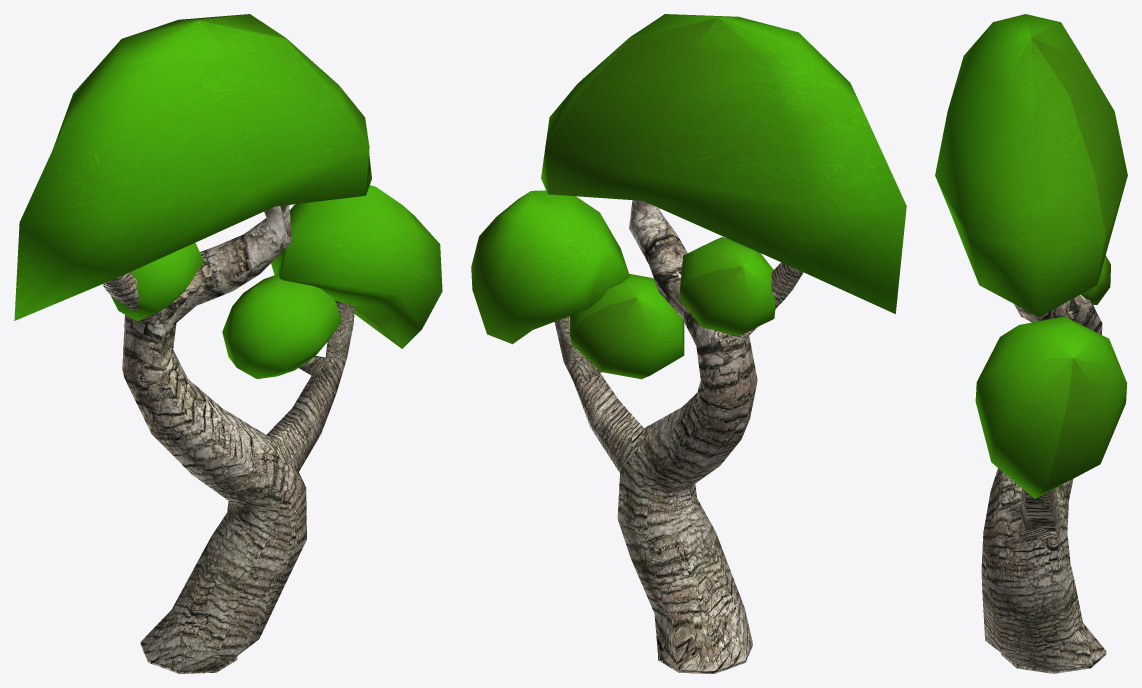
The picture shows the model from 3 angles, left to right: view 1: azimuth 30°, elevation 25°; view 2: azimuth 150°, elevation 25°; view 3: azimuth 270°, elevation 25°; orthographic projection. The views are drawn at different scales.
Parts seen in each view (by area): view 1: polySurface21; view 2: polySurface21; view 3: polySurface21.
Part boxes in pixels (box(x1,y1,x2,y2)): polySurface21: box(14, 14, 442, 673); polySurface21: box(471, 14, 906, 673); polySurface21: box(935, 14, 1127, 673).
Bounding box in the file's own units: 12797 × 18492 × 5243.
